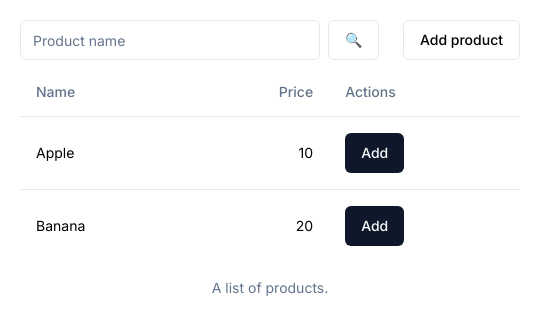
HomePage › should filter products
This screenshot has width=537, height=313.
Type "Banana" into the search field. click: {"x": 170, "y": 40}
box: top-left (20, 20), bottom-right (320, 60)
Then press Enter
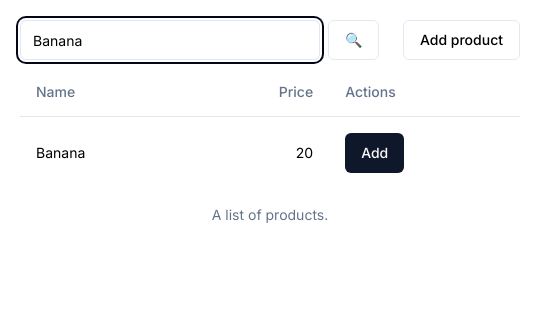
Expected: the text "Banana" is shown, top-left (20, 116), bottom-right (190, 188)
Expected: the text "Apple" is gone
